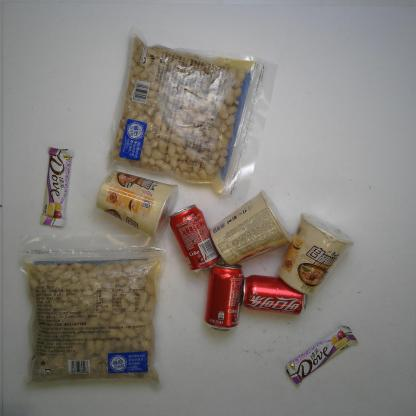Chocolate: (285, 322, 357, 390), (40, 145, 74, 227)
Dried Food: (108, 31, 272, 198), (20, 242, 167, 390)
Drink: (171, 204, 219, 274), (205, 263, 246, 333), (242, 275, 308, 317)
Instant Noodles: (209, 191, 292, 265), (279, 212, 353, 293), (95, 170, 179, 236)
